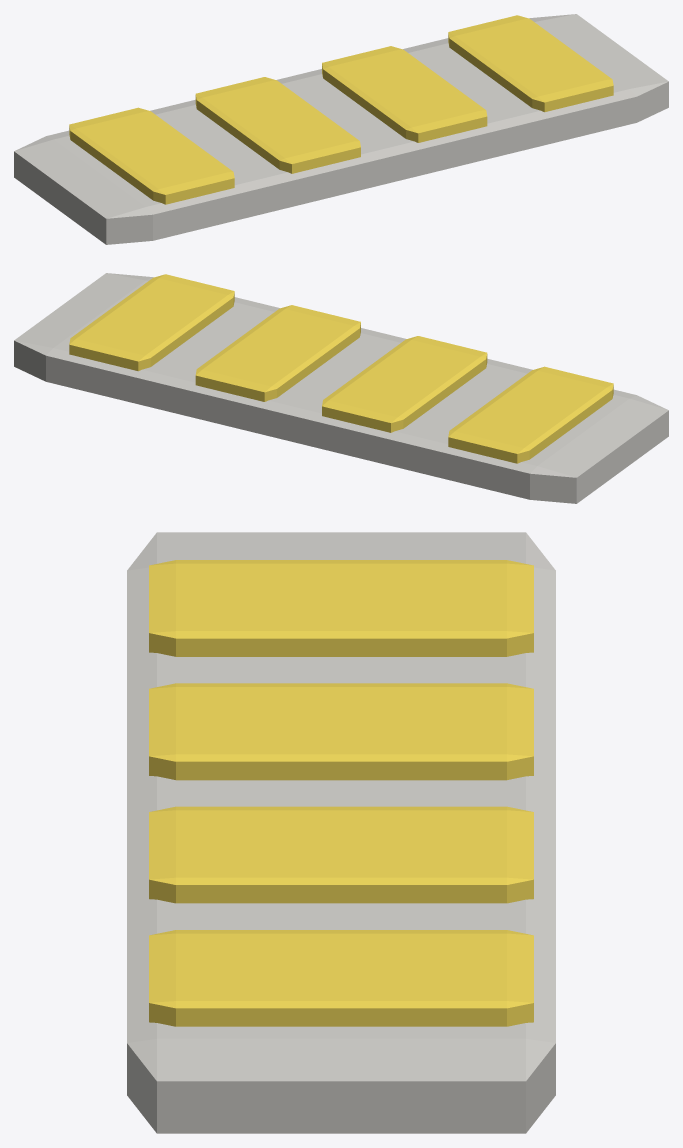
The model's file is b13_parallel_depressed_curb_ramp.glb.
The picture shows the model from 3 angles, top to bottom: view 1: azimuth 30°, elevation 25°; view 2: azimuth 150°, elevation 25°; view 3: azimuth 270°, elevation 25°; orthographic projection. The views are drawn at different scales.
Parts seen in each view (by area): view 1: b13_parallel_depressed_curb_ramp; view 2: b13_parallel_depressed_curb_ramp; view 3: b13_parallel_depressed_curb_ramp.
Boxes of the visible parts, x1,y1,x2,y2 form: b13_parallel_depressed_curb_ramp: (14, 14, 668, 244); b13_parallel_depressed_curb_ramp: (14, 273, 668, 503); b13_parallel_depressed_curb_ramp: (127, 532, 555, 1133).
Size of the model in its own units: 4.65 by 0.32 by 1.53.
